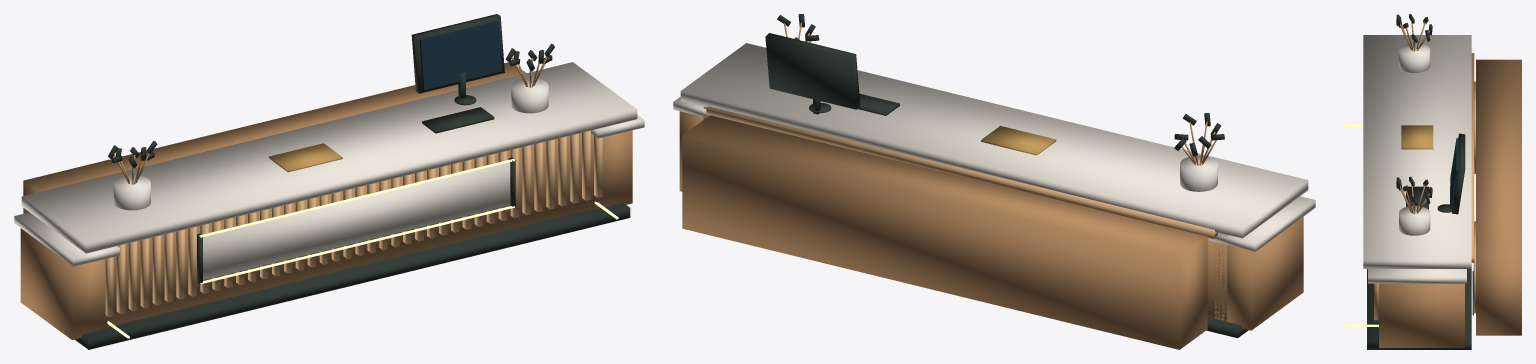
The model's file is hq-reception-v2.glb.
The picture shows the model from 3 angles, left to right: view 1: azimuth 30°, elevation 25°; view 2: azimuth 150°, elevation 25°; view 3: azimuth 270°, elevation 25°; orthographic projection. The views are drawn at different scales.
Visible parts, largest first — view 1: Reception_stone, Reception_wood, Reception_woodlight, Reception_metal, Reception_screen, Reception_led, Reception_brass; view 2: Reception_wood, Reception_stone, Reception_metal, Reception_woodlight, Reception_brass; view 3: Reception_stone, Reception_wood, Reception_metal, Reception_woodlight, Reception_brass, Reception_screen, Reception_led.
Part boxes in pixels (x1=…): Reception_stone: x1=14, y1=62, x2=644, y2=279; Reception_wood: x1=20, y1=56, x2=632, y2=339; Reception_woodlight: x1=105, y1=130, x2=602, y2=317; Reception_metal: x1=75, y1=14, x2=630, y2=349; Reception_screen: x1=419, y1=21, x2=501, y2=89; Reception_led: x1=107, y1=158, x2=618, y2=338; Reception_brass: x1=268, y1=143, x2=342, y2=172; Reception_wood: x1=679, y1=22, x2=1303, y2=349; Reception_stone: x1=673, y1=43, x2=1315, y2=251; Reception_metal: x1=765, y1=14, x2=1248, y2=338; Reception_woodlight: x1=706, y1=106, x2=1217, y2=238; Reception_brass: x1=981, y1=126, x2=1056, y2=155; Reception_stone: x1=1363, y1=35, x2=1471, y2=283; Reception_wood: x1=1379, y1=21, x2=1521, y2=347; Reception_metal: x1=1367, y1=14, x2=1473, y2=349; Reception_woodlight: x1=1374, y1=53, x2=1475, y2=320; Reception_brass: x1=1401, y1=125, x2=1433, y2=149; Reception_screen: x1=1450, y1=138, x2=1458, y2=209; Reception_led: x1=1344, y1=124, x2=1378, y2=326.
Bounding box in the file's own units: 6.03 × 1.82 × 1.94.
